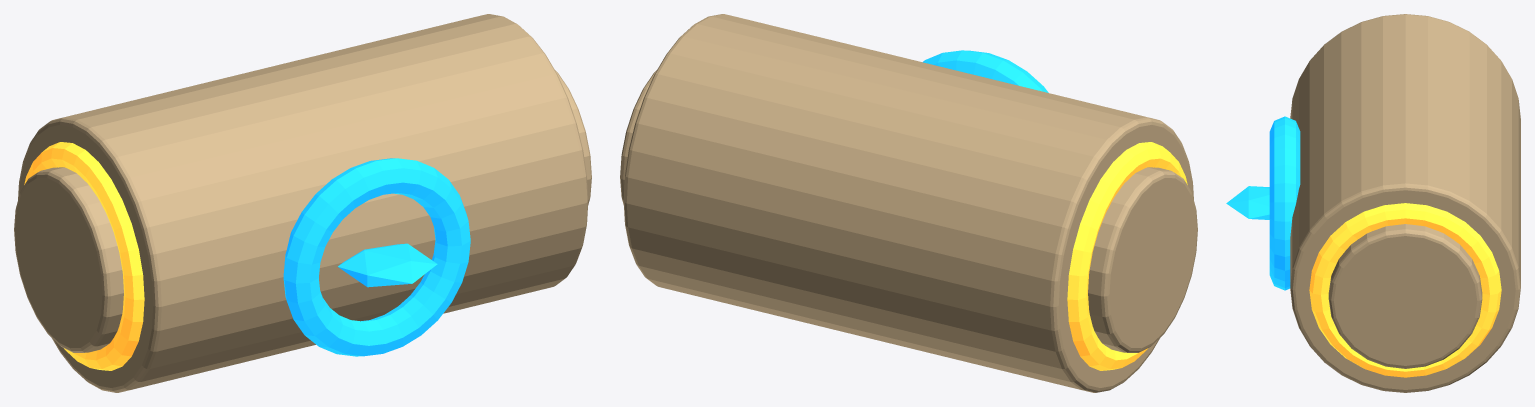
Rendered from tier_ii_attack_scroll.glb.
The picture shows the model from 3 angles, left to right: view 1: azimuth 30°, elevation 25°; view 2: azimuth 150°, elevation 25°; view 3: azimuth 270°, elevation 25°; orthographic projection. The views are drawn at different scales.
Parts seen in each view (by area): view 1: Scroll.001, Torus.015, Roll.002, Torus.013, SealGem.001, Roll.003; view 2: Scroll.001, Roll.002, Torus.013, Torus.015, Roll.003; view 3: Scroll.001, Roll.003, Torus.014, Torus.015, SealGem.001.
Boxes of the visible parts, bbox=[...] form: Scroll.001: bbox=[18, 14, 588, 392]; Torus.015: bbox=[283, 158, 470, 356]; Roll.002: bbox=[14, 167, 123, 352]; Torus.013: bbox=[24, 142, 144, 370]; SealGem.001: bbox=[338, 243, 437, 287]; Roll.003: bbox=[555, 70, 591, 205]; Scroll.001: bbox=[623, 14, 1193, 392]; Roll.002: bbox=[1088, 167, 1197, 352]; Torus.013: bbox=[1067, 142, 1187, 370]; Torus.015: bbox=[922, 50, 1048, 92]; Roll.003: bbox=[620, 70, 656, 205]; Scroll.001: bbox=[1290, 14, 1520, 392]; Roll.003: bbox=[1328, 224, 1482, 368]; Torus.014: bbox=[1309, 203, 1501, 377]; Torus.015: bbox=[1269, 116, 1300, 290]; SealGem.001: bbox=[1226, 186, 1269, 219].
Size of the model in its own units: 1.8 by 0.9 by 1.15.
